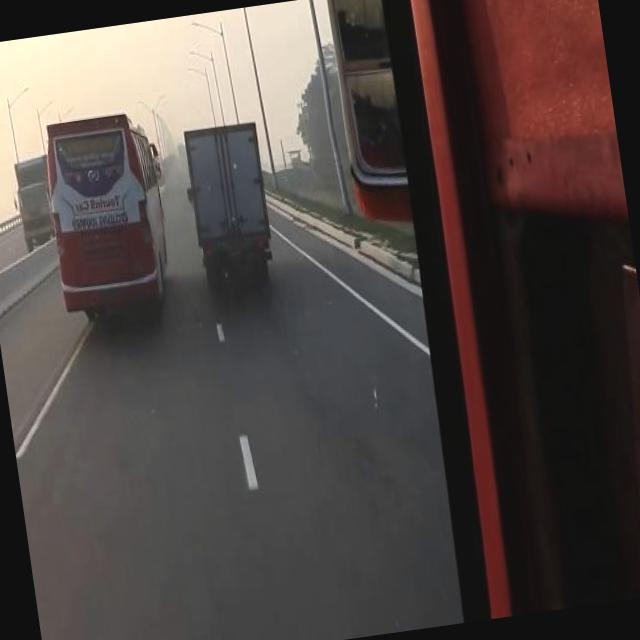bus: (40, 105, 177, 318)
truck: (183, 119, 277, 278), (6, 147, 59, 248)
